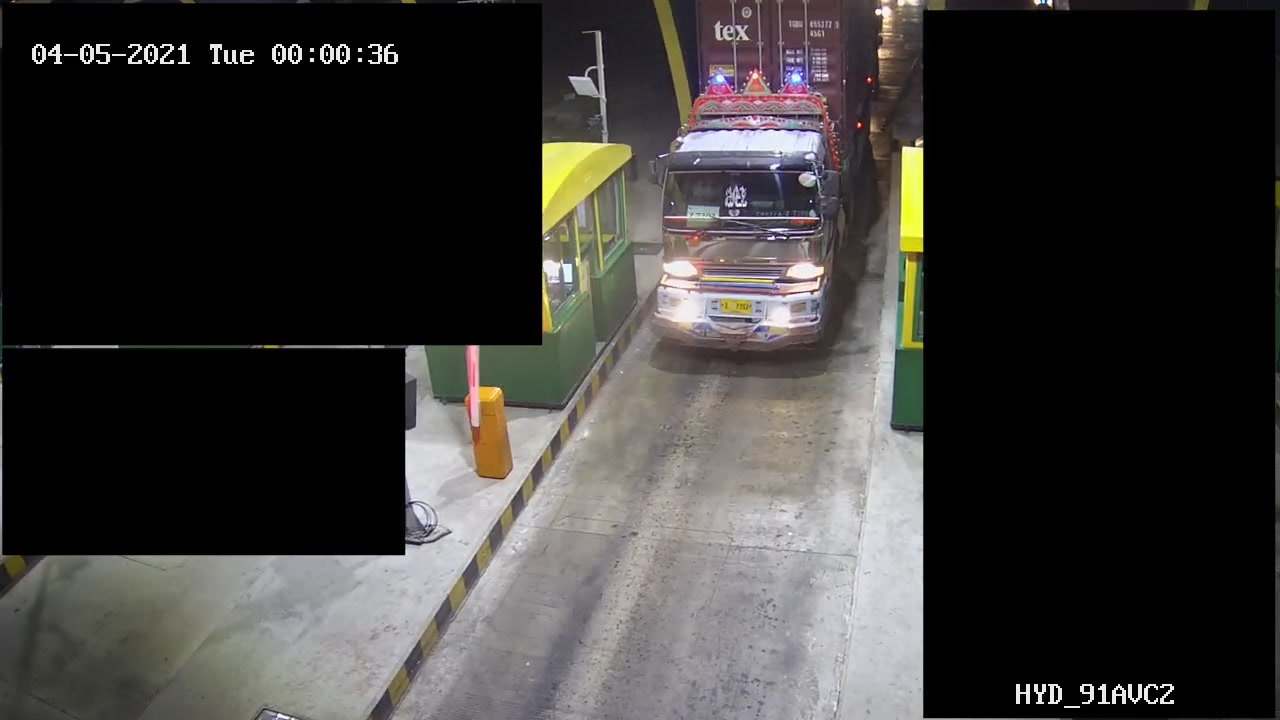F6: (648, 1, 876, 374)
